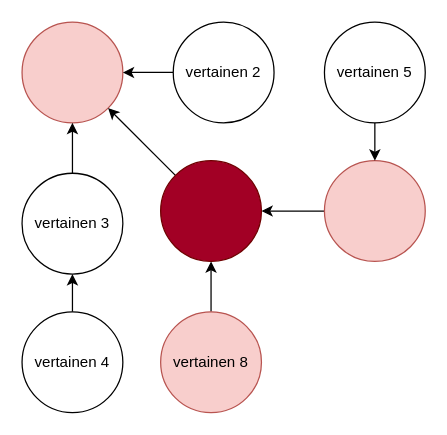
Image size: 447x435. Some labels were removed from this diagram. Each missing label, with the centre of its shape:
"vertainen 1" belongs at (72,72).
"vertainen 6" belongs at (374,210).
"vertainen 7" belongs at (210,210).
